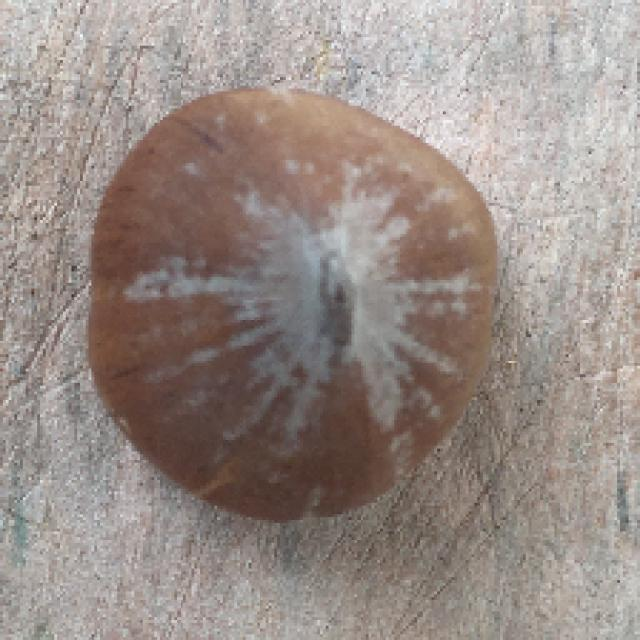qualityHazelnut: (81, 82, 502, 522)
